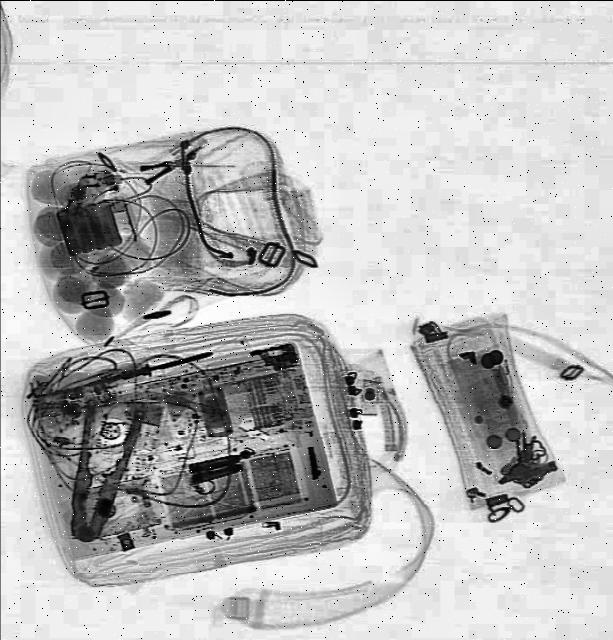Pliers: (52, 393, 148, 547)
